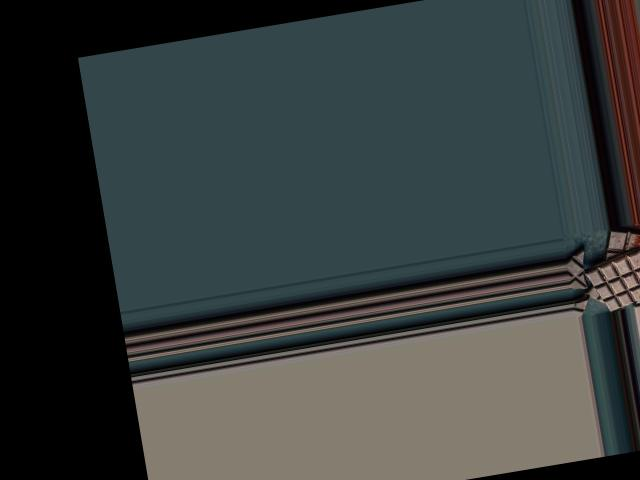chocolate: (581, 248, 640, 314)
